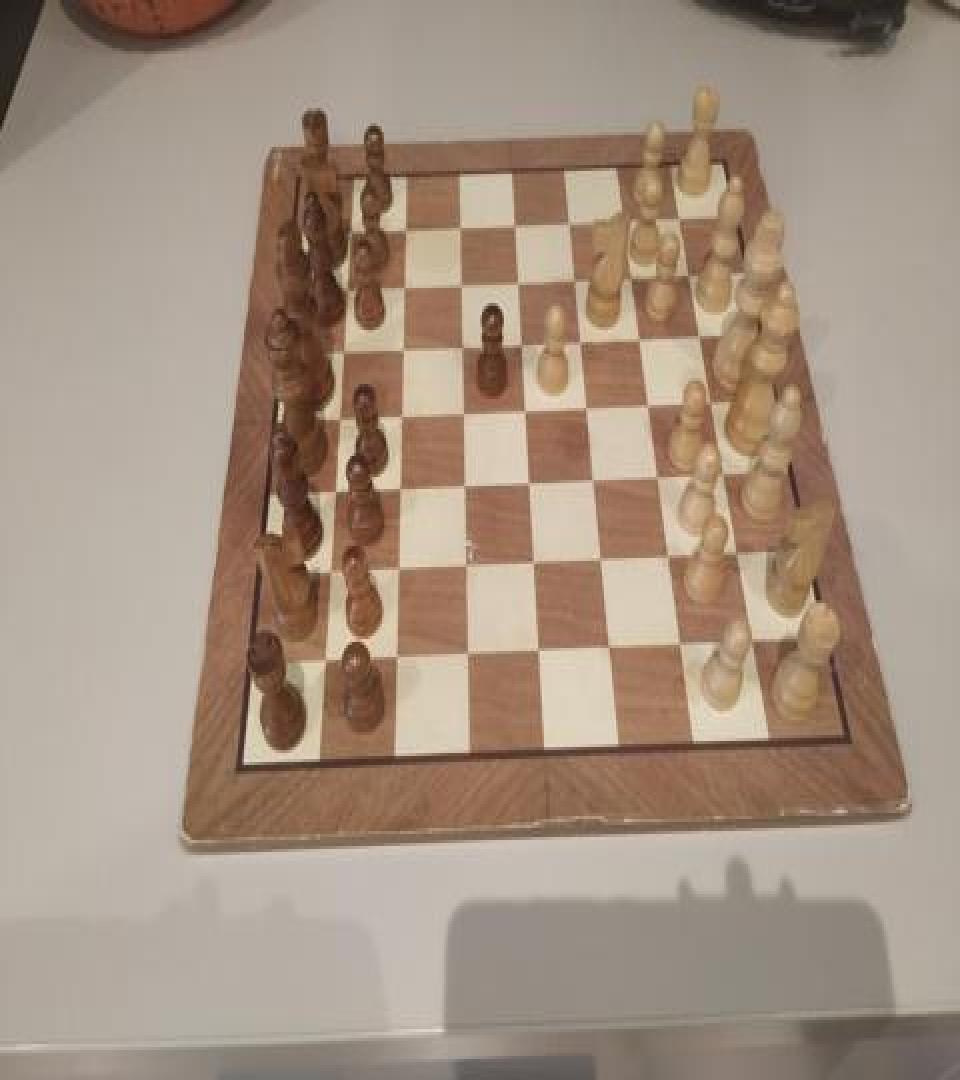xcorner: (313, 648, 333, 678), (386, 644, 406, 674), (459, 640, 479, 670), (531, 636, 551, 666), (603, 633, 623, 663), (675, 630, 695, 660), (746, 626, 766, 656), (388, 554, 408, 584), (526, 548, 546, 578), (595, 543, 615, 573), (663, 540, 683, 570), (731, 537, 751, 567), (324, 474, 344, 504), (390, 471, 410, 501), (456, 468, 476, 498), (522, 465, 542, 495), (587, 462, 607, 492), (652, 460, 672, 490), (717, 458, 737, 488), (329, 399, 349, 429), (392, 396, 412, 426), (455, 394, 475, 424), (518, 392, 538, 422), (580, 388, 600, 418), (643, 387, 663, 417), (704, 384, 724, 414), (333, 330, 353, 360), (394, 328, 414, 358), (454, 326, 474, 356), (514, 324, 534, 354), (574, 321, 594, 351), (634, 320, 654, 350), (693, 316, 713, 346), (337, 267, 357, 297), (395, 266, 415, 296), (453, 264, 473, 294), (511, 261, 531, 291), (568, 260, 588, 290), (625, 258, 645, 288), (682, 255, 702, 285), (341, 210, 361, 240), (397, 207, 417, 237), (452, 206, 472, 236), (508, 204, 528, 234), (563, 202, 583, 232), (618, 201, 638, 231), (672, 198, 692, 228), (319, 557, 339, 586), (458, 551, 478, 580)
